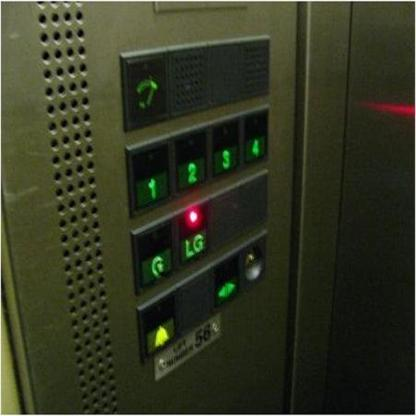1: (133, 169, 168, 205)
2: (176, 154, 205, 188)
3: (211, 144, 237, 171)
4: (245, 134, 263, 159)
G: (140, 246, 171, 282)
LG: (179, 225, 205, 260)
alarm: (144, 315, 173, 351)
open: (214, 273, 238, 307)
unknown: (124, 54, 168, 126)
